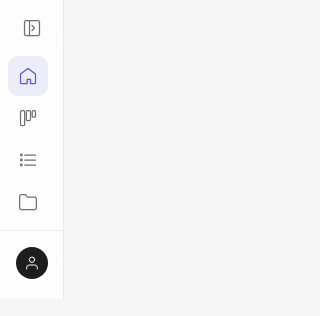
Scenario: AppSidebar › hides labels again when toggled a second time
Click the button named "expandir menu".
click(32, 28)  # box [16,12,48,44]
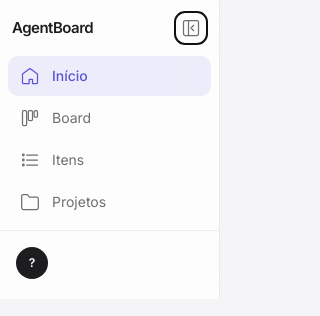
Click the button named "expandir menu".
click(191, 28)  # box [175,12,207,44]
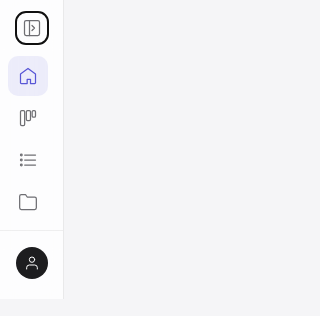
Expected: the text "Board" is gone
